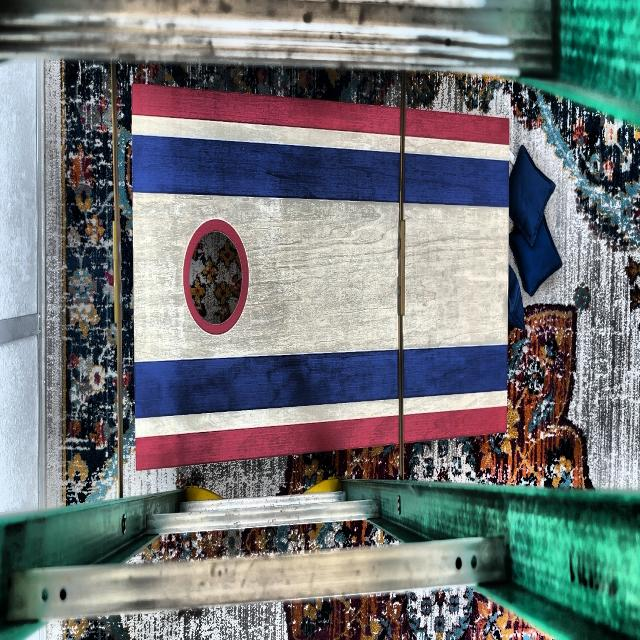blue-bean-bag: (510, 144, 555, 245), (509, 215, 563, 296), (509, 264, 524, 333)
board: (136, 120, 506, 430)
hole: (183, 217, 249, 335)
